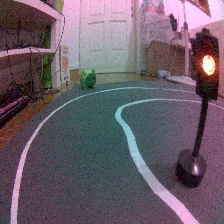amber: (178, 24, 220, 191)
